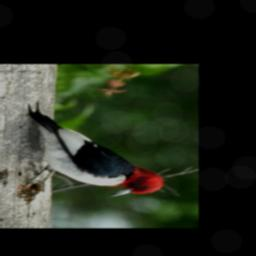Woodpecker: (28, 103, 164, 198)
